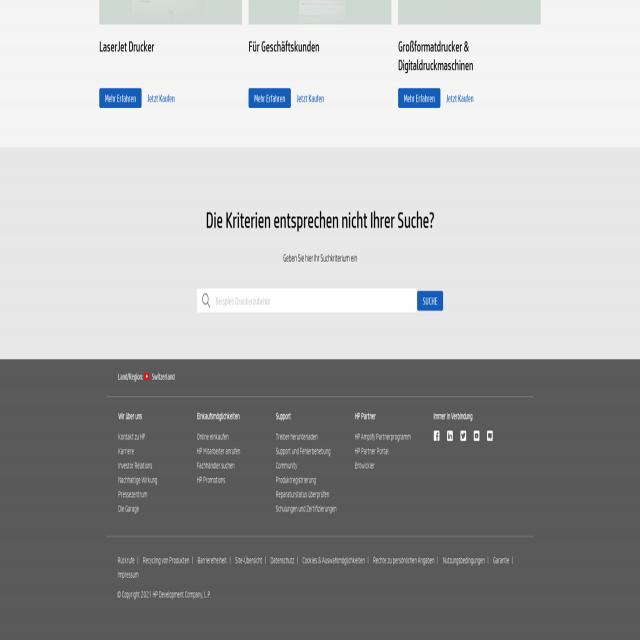button: (99, 88, 142, 108), (249, 88, 291, 108), (398, 88, 440, 108), (146, 88, 176, 108), (295, 88, 325, 108), (445, 88, 475, 108), (417, 290, 443, 310), (202, 293, 210, 308), (434, 430, 440, 443), (447, 430, 453, 443), (460, 430, 466, 443), (487, 430, 493, 443), (474, 430, 479, 443)
field: (197, 288, 417, 313)
